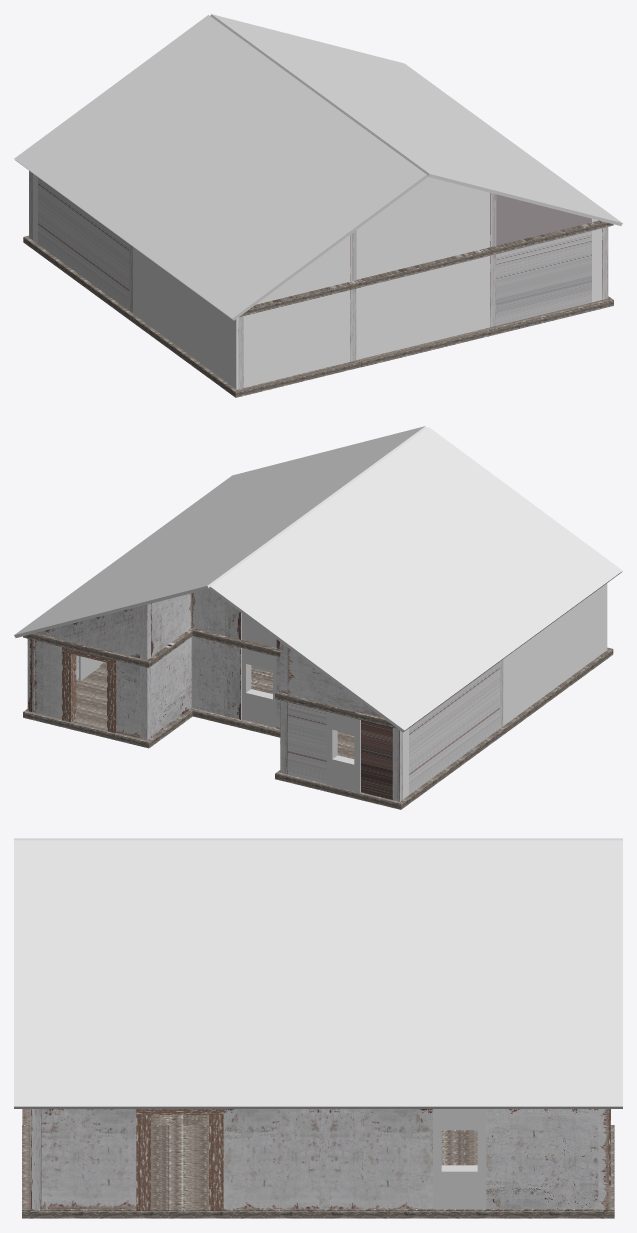
The model's file is БЕТА ДОМ С ТЕКСТУРАМИ.fbx.
3 renders of one model, top to bottom at view 1: azimuth 30°, elevation 25°; view 2: azimuth 150°, elevation 25°; view 3: azimuth 270°, elevation 25°, orthographic. The views are drawn at different scales.
Parts seen in each view (by area): view 1: Cube.021, Cube.016, Cube.020, Cube.008, Cube.007, Cube.001, Cube.015, Cube, Cube.010, Cube.019, Cube.018, Cube.017 (+1 smaller); view 2: Cube.021, Cube.020, Cube.008, Cube.005, Cube.023, Cube.003, Cube.001, Cube.004, Cube, Cube.024, Cube.002, Cube.012 (+7 smaller); view 3: Cube.020, Cube.006, Cube, Cube.002, Cube.015, Cube.013, Cube.022, Cube.021, Cube.010.
Boxes of the visible parts, <box> form: Cube.021: <box>14,15,428,320</box>; Cube.016: <box>356,177,591,359</box>; Cube.020: <box>210,14,622,225</box>; Cube.008: <box>38,177,243,389</box>; Cube.007: <box>243,230,356,387</box>; Cube.001: <box>23,235,361,397</box>; Cube.015: <box>592,219,608,302</box>; Cube: <box>485,296,613,336</box>; Cube.010: <box>359,329,487,366</box>; Cube.019: <box>359,248,487,286</box>; Cube.018: <box>485,220,613,255</box>; Cube.017: <box>239,279,361,316</box>; Cube.021: <box>209,427,622,732</box>; Cube.020: <box>14,426,426,637</box>; Cube.008: <box>409,583,607,794</box>; Cube.005: <box>117,636,241,740</box>; Cube.023: <box>37,589,241,659</box>; Cube.003: <box>276,657,326,783</box>; Cube.001: <box>275,647,613,809</box>; Cube.004: <box>361,720,408,801</box>; Cube: <box>23,662,195,748</box>; Cube.024: <box>276,639,381,717</box>; Cube.002: <box>27,639,78,719</box>; Cube.012: <box>326,711,360,792</box>; Cube.020: <box>14,840,622,1108</box>; Cube.006: <box>223,1109,432,1209</box>; Cube: <box>22,1125,614,1218</box>; Cube.002: <box>486,1109,608,1208</box>; Cube.015: <box>31,1109,136,1208</box>; Cube.013: <box>433,1109,486,1209</box>; Cube.022: <box>136,1109,223,1210</box>; Cube.021: <box>14,838,622,840</box>; Cube.010: <box>22,1109,208,1124</box>.
Size of the model in its own units: 4340 by 1921 by 4200.
